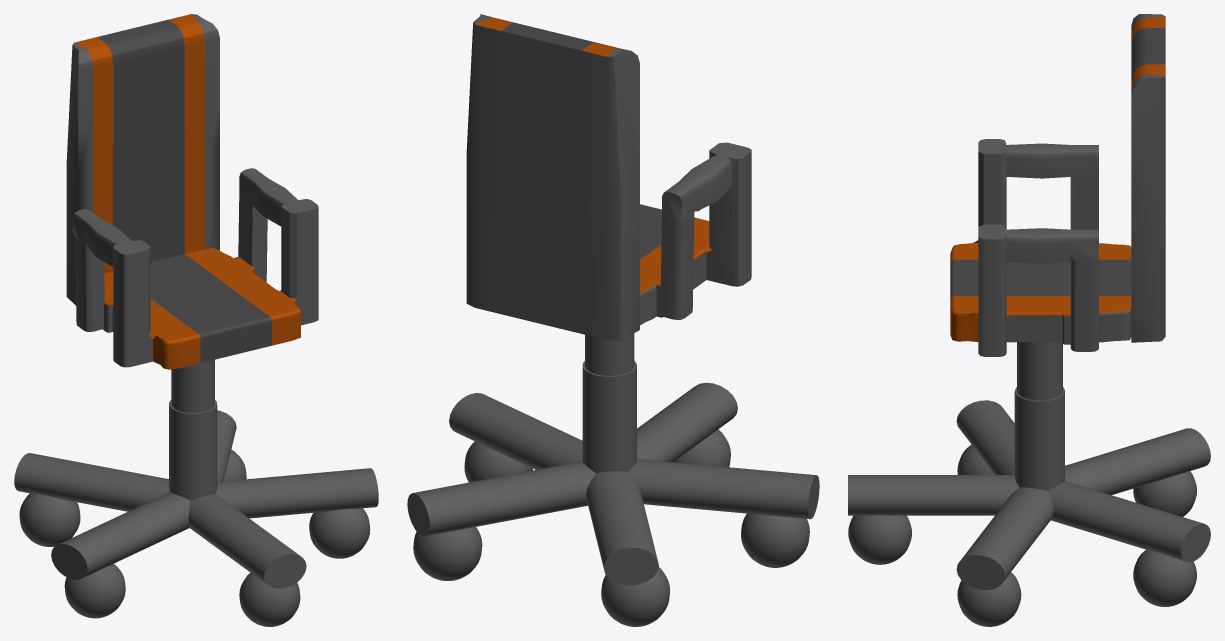
File: ArtistChair.fbx
3 renders of one model, left to right at view 1: azimuth 30°, elevation 25°; view 2: azimuth 150°, elevation 25°; view 3: azimuth 270°, elevation 25°, orthographic. The views are drawn at different scales.
Parts seen in each view (by area): view 1: pCube1, pCylinder1, pCylinder4, pCylinder7, pCylinder6, pCylinder3, pSphere2, pSphere5, pSphere4, pSphere1, pCylinder5, pSphere3; view 2: pCube1, pCylinder5, pCylinder7, pCylinder1, pCylinder6, pCylinder4, pCylinder3, pSphere4, pSphere3, pSphere2, pSphere5, pSphere1; view 3: pCube1, pCylinder1, pCylinder5, pCylinder3, pCylinder6, pCylinder4, pCylinder7, pSphere3, pSphere1, pSphere5, pSphere2, pSphere4.
Part boxes in pixels (x1,y1,x2,y2): pCube1: (66,14,318,369); pCylinder1: (169,359,217,500); pCylinder4: (215,468,378,518); pCylinder7: (51,492,190,579); pCylinder6: (14,453,169,511); pCylinder3: (188,494,306,588); pSphere2: (19,493,80,546); pSphere5: (309,508,370,558); pSphere4: (64,563,125,618); pSphere1: (239,572,300,626); pCylinder5: (217,410,236,481); pSphere3: (223,449,246,481); pCube1: (466,14,751,341); pCylinder5: (407,461,595,536); pCylinder7: (628,459,819,519); pCylinder1: (582,333,636,473); pCylinder6: (586,471,658,585); pCylinder4: (449,393,582,469); pCylinder3: (637,382,737,462); pSphere4: (741,513,809,567); pSphere3: (413,527,482,580); pSphere2: (601,567,670,626); pSphere5: (464,441,532,482); pSphere1: (673,429,730,467); pCube1: (950,14,1165,356); pCylinder1: (1014,342,1064,490); pCylinder5: (1048,481,1210,562); pCylinder3: (848,475,1019,515); pCylinder6: (1065,428,1210,495); pCylinder4: (956,487,1053,589); pCylinder7: (956,400,1014,474); pSphere3: (1133,549,1196,606); pSphere1: (848,515,911,564); pSphere5: (957,572,1021,626); pSphere2: (1133,471,1196,516); pSphere4: (957,444,994,474).
Size of the model in its own units: 11.94 by 17.81 by 11.36.
